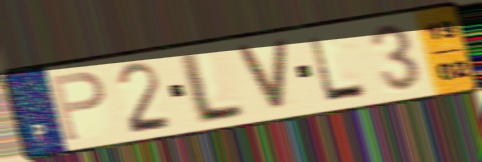2: (114, 60, 174, 136)
3: (368, 21, 426, 95)
L: (179, 49, 247, 127), (305, 33, 372, 104)
P: (47, 69, 109, 145)
V: (231, 38, 291, 113)
